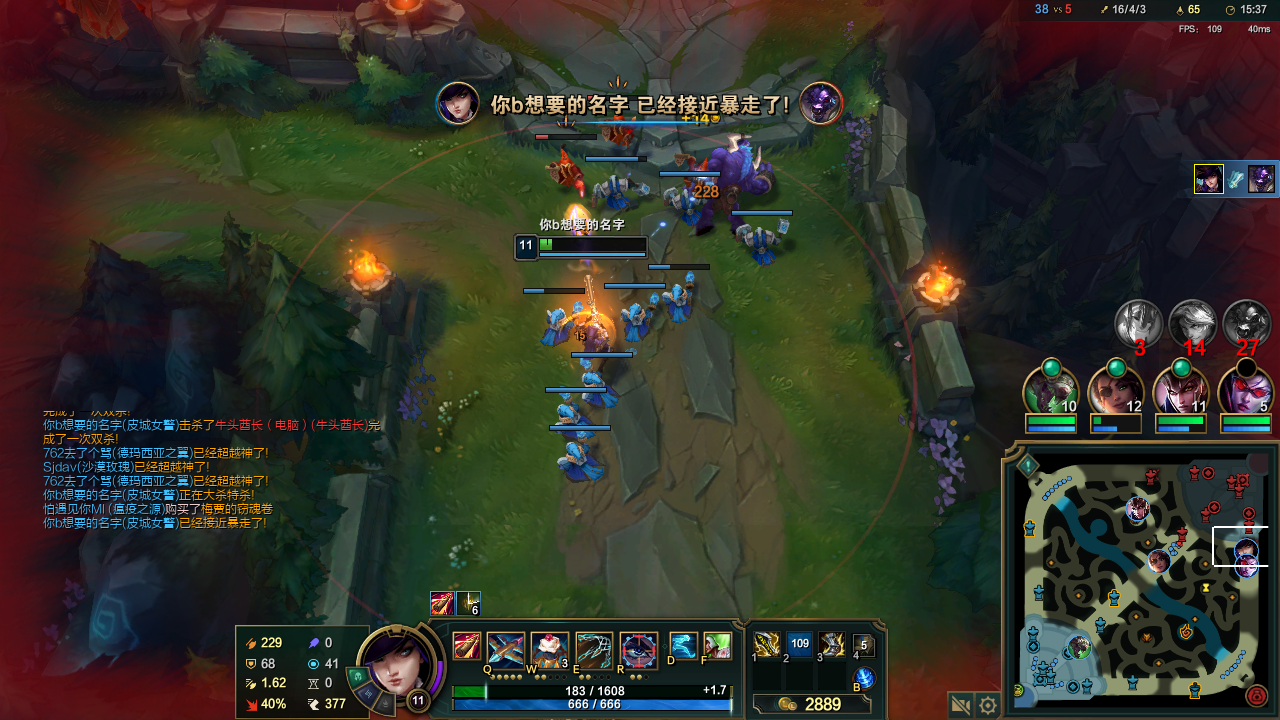DFXB: (601, 115, 639, 142), (551, 156, 579, 188)
WFXB: (736, 221, 786, 264), (553, 443, 596, 486), (674, 189, 713, 228), (618, 301, 650, 344), (598, 178, 641, 209), (583, 375, 617, 407), (662, 287, 693, 320), (539, 309, 567, 345), (560, 407, 587, 438)
